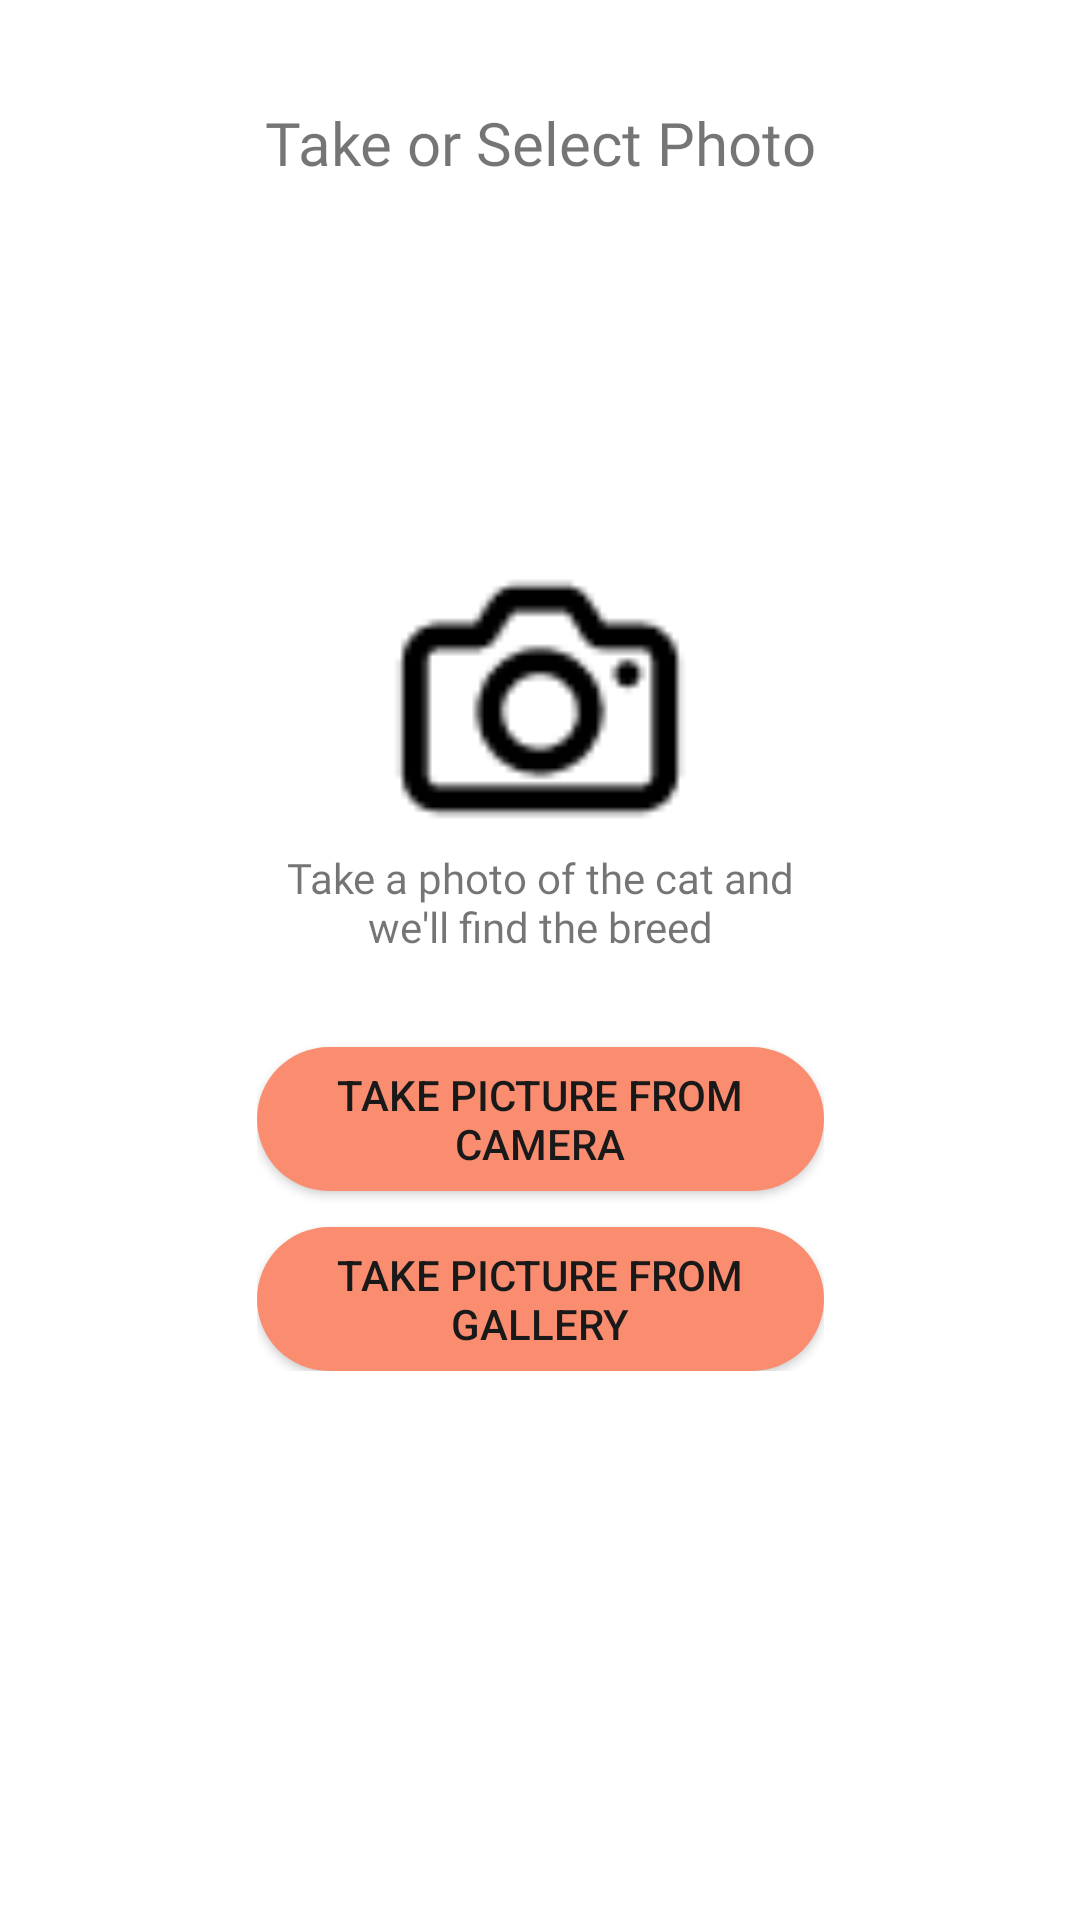

Locate icon controls on the screen. Image size 1080 x 1920, boxes as bbox=(x1, y1, x2, y2).
camera: bbox=(398, 581, 682, 817)
